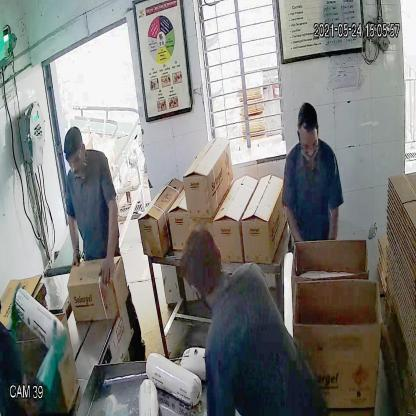goggles: (296, 127, 320, 156), (65, 147, 85, 171)
